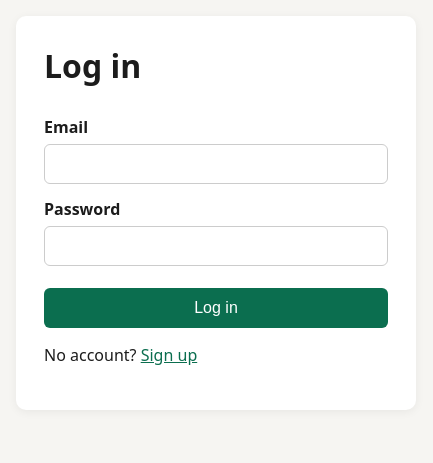
Test: Login page › shows the server error when login fails
This screenshot has width=433, height=463.
Step 1. Type "a@b.com" into the field labelled "Email" → (216, 164), box top-left (44, 144), bottom-right (388, 184)
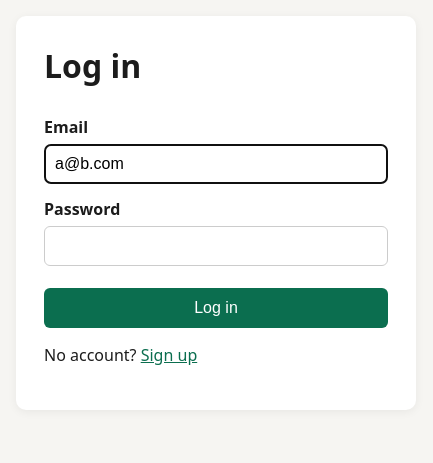
Step 2. Type "wrongpass" into the password field labelled "Password" → (216, 246), box top-left (44, 226), bottom-right (388, 266)
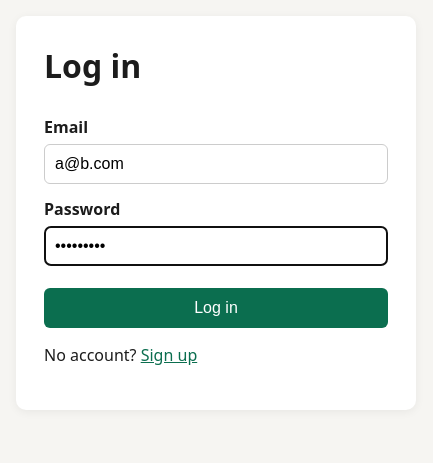
Step 3. Click the button "Log in" → (216, 308), box top-left (44, 288), bottom-right (388, 328)
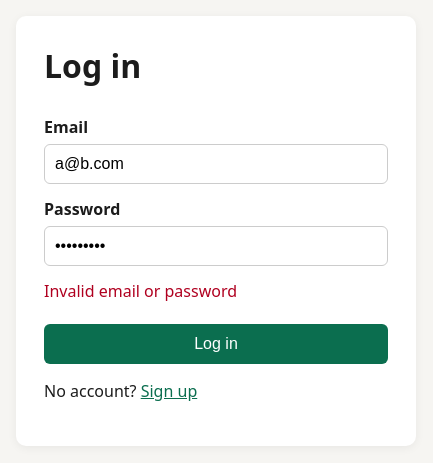
Now the message reads "Invalid email or password", box top-left (44, 280), bottom-right (237, 302)
